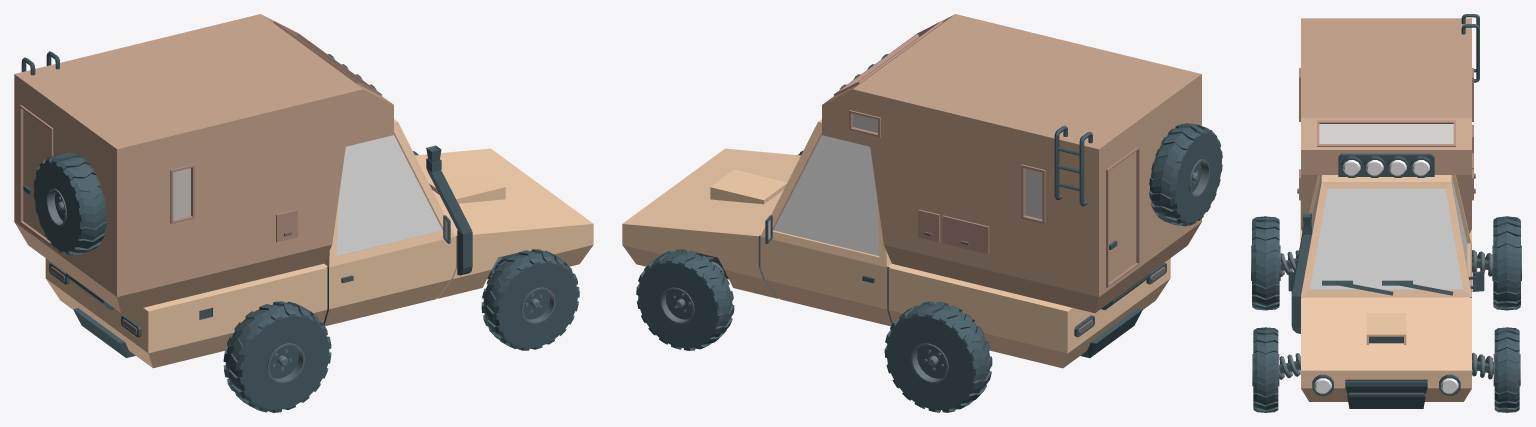
The picture shows the model from 3 angles, left to right: view 1: azimuth 30°, elevation 25°; view 2: azimuth 150°, elevation 25°; view 3: azimuth 270°, elevation 25°; orthographic projection. The views are drawn at different scales.
Parts seen in each view (by area): view 1: Frame, Rear_wheel.001, Front_wheel.001; view 2: Frame, Rear_wheel, Front_wheel; view 3: Frame, Rear_wheel.001, Rear_wheel, Front_wheel.001, Front_wheel, Spring.002, Spring, Spring.001, Spring.003.
Part boxes in pixels (left/top/right/bottom): Frame: left=14, top=14, right=593, bottom=368; Rear_wheel.001: left=223, top=301, right=331, bottom=412; Front_wheel.001: left=481, top=249, right=579, bottom=350; Frame: left=622, top=14, right=1222, bottom=368; Rear_wheel: left=884, top=301, right=992, bottom=412; Front_wheel: left=636, top=249, right=734, bottom=350; Frame: left=1288, top=14, right=1484, bottom=408; Rear_wheel.001: left=1251, top=216, right=1280, bottom=310; Rear_wheel: left=1492, top=216, right=1521, bottom=310; Front_wheel.001: left=1252, top=327, right=1279, bottom=412; Front_wheel: left=1493, top=327, right=1520, bottom=412; Spring.002: left=1279, top=353, right=1300, bottom=379; Spring: left=1472, top=352, right=1493, bottom=379; Spring.001: left=1472, top=250, right=1492, bottom=276; Spring.003: left=1280, top=250, right=1298, bottom=276.
Size of what is drawn, in the model's own units: 5.75 by 3.1 by 3.16.
